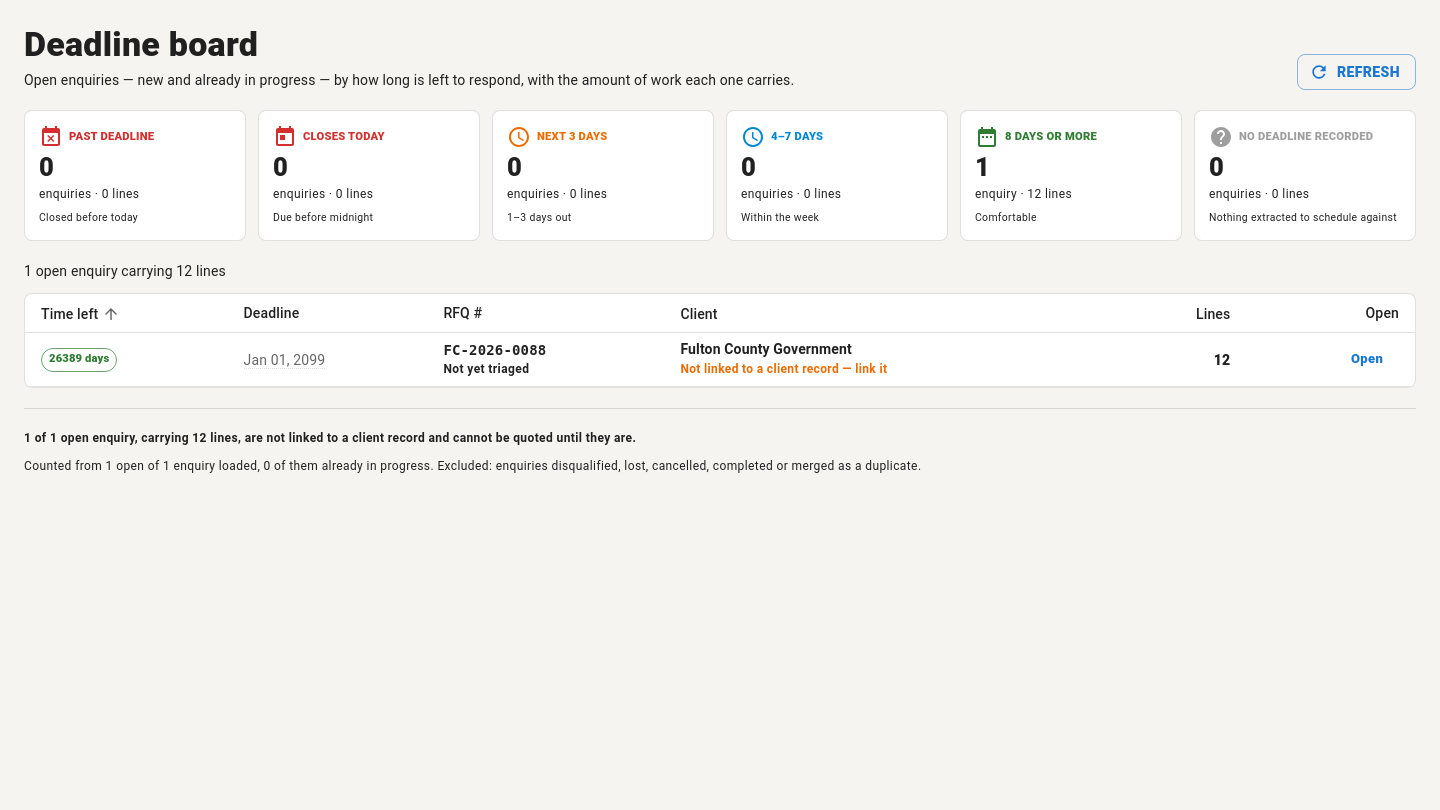
Test: DeadlineBoardPage — the unresolved client is work, not a label › offers to link the client from the row itself
This screenshot has width=1440, height=810.
Click the button "Not linked to a client record — link it": (784, 370) [680, 359, 887, 380]
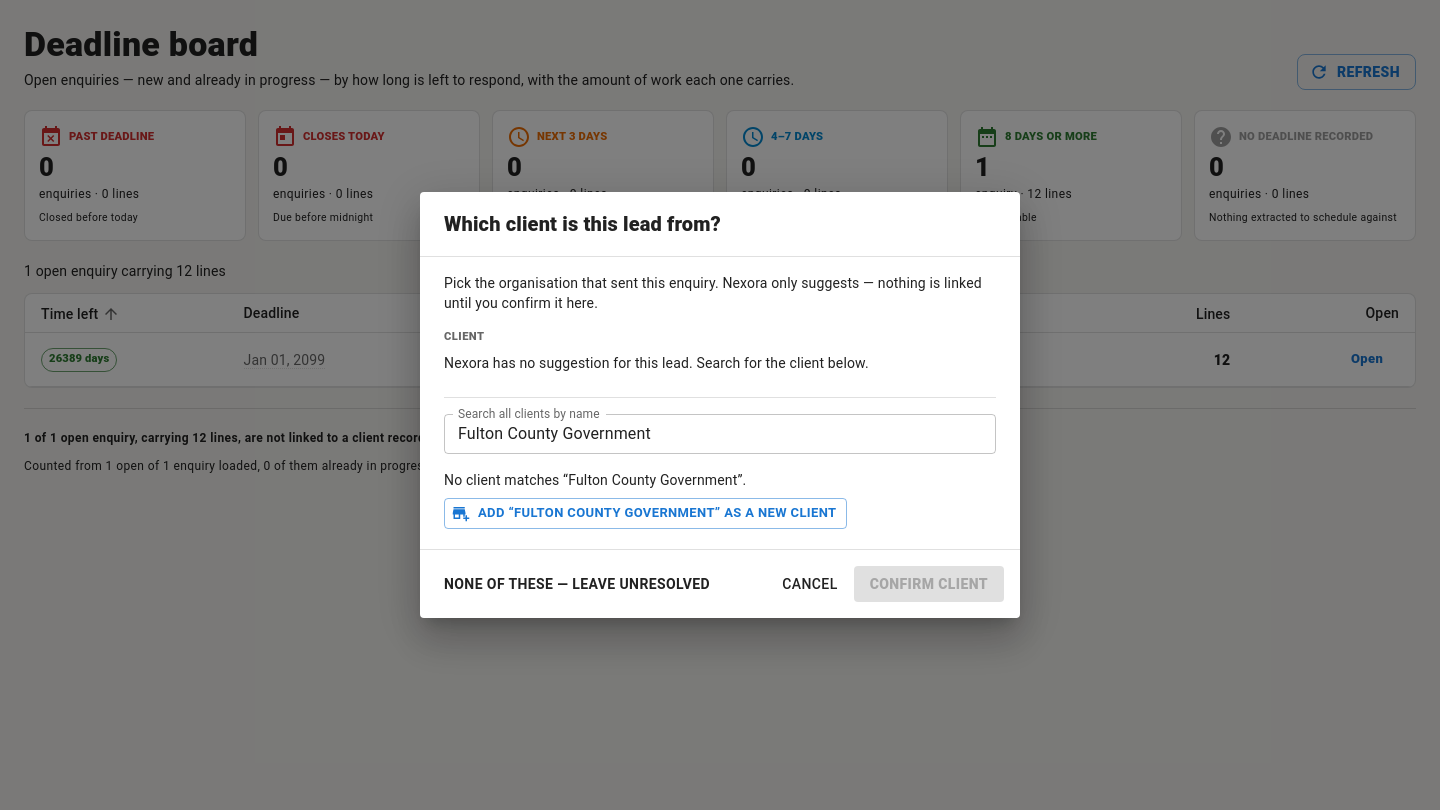
Expected: the dialog is shown, [420, 192, 1020, 618]
Expected: the field showing "Fulton County Government" is shown, [444, 414, 996, 454]
